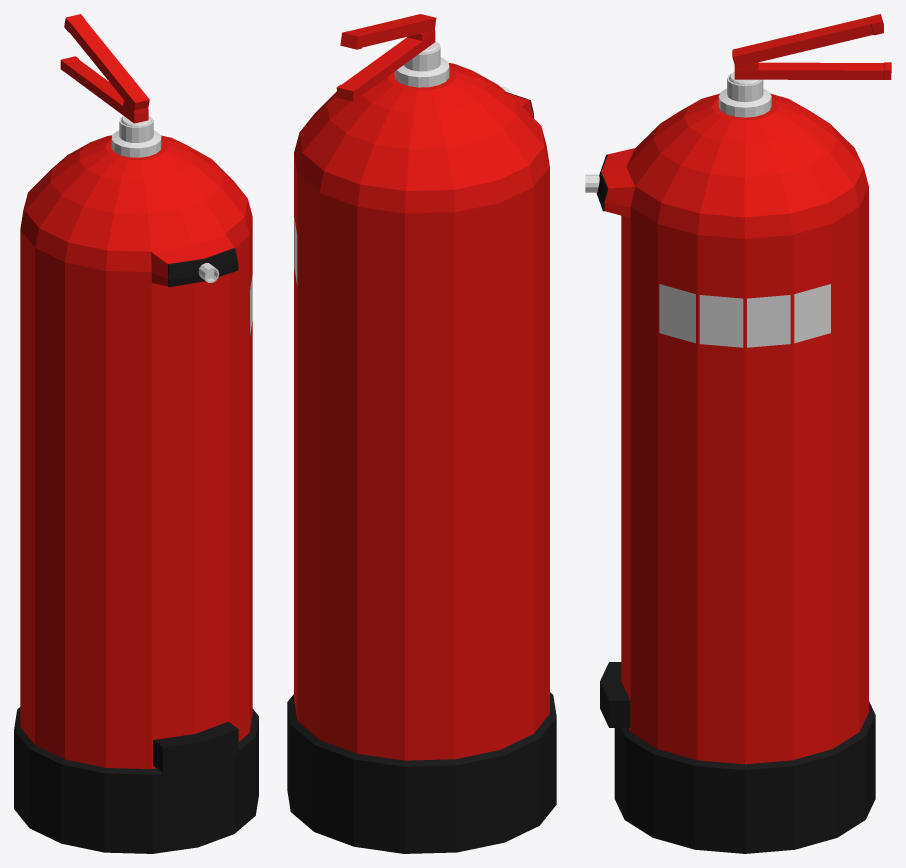
Rendered from FireExtinguisher.fbx.
The picture shows the model from 3 angles, left to right: view 1: azimuth 30°, elevation 25°; view 2: azimuth 150°, elevation 25°; view 3: azimuth 270°, elevation 25°; orthographic projection. The views are drawn at different scales.
Visible parts, largest first — view 1: FireExtingusiher; view 2: FireExtingusiher; view 3: FireExtingusiher.
Part boxes in pixels (x1,y1,x2,y2): FireExtingusiher: [14, 14, 258, 853]; FireExtingusiher: [287, 14, 556, 853]; FireExtingusiher: [585, 14, 891, 853].
Size of the model in its own units: 31.89 by 105 by 37.37.
